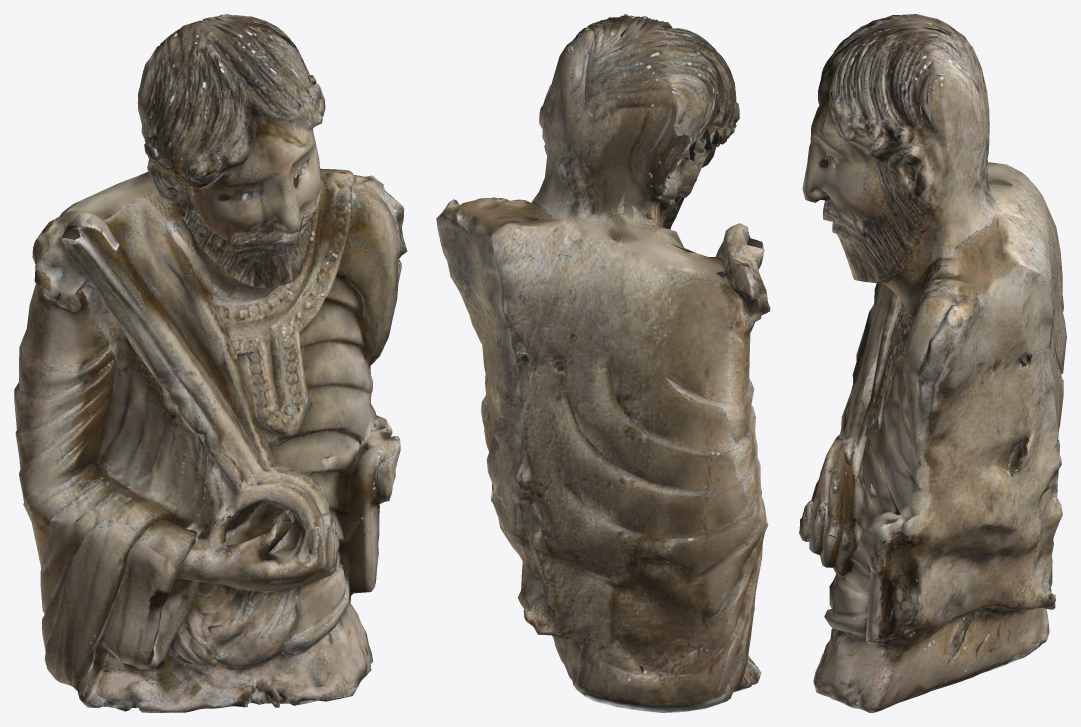
Rendered from saint-peter-b3.glb.
3 views of the same model, side by side, from view 1: azimuth 30°, elevation 25°; view 2: azimuth 150°, elevation 25°; view 3: azimuth 270°, elevation 25° (orthographic). The views are drawn at different scales.
Visible parts, largest first — view 1: Mesh; view 2: Mesh; view 3: Mesh.
Boxes of the visible parts, left/top/right/bottom form: Mesh: left=14, top=14, right=407, bottom=712; Mesh: left=436, top=14, right=770, bottom=712; Mesh: left=799, top=14, right=1066, bottom=712.
Bounding box in the file's own units: 0.4326 × 0.7613 × 0.2924.
Materials: 1 (1 with a texture image).
